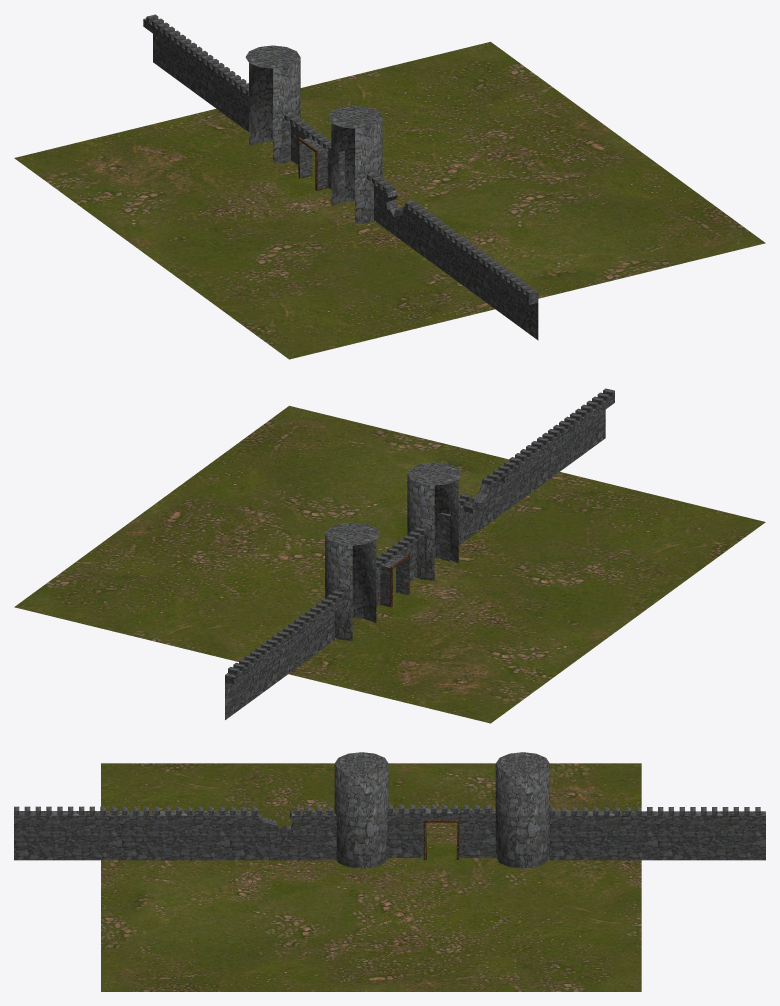
The model's file is walls.glb.
The picture shows the model from 3 angles, top to bottom: view 1: azimuth 30°, elevation 25°; view 2: azimuth 150°, elevation 25°; view 3: azimuth 270°, elevation 25°; orthographic projection.
Visible parts, largest first — view 1: Gate_2x4.003; view 2: Gate_2x4.003; view 3: Gate_2x4.003.
Boxes of the visible parts, left/top/right/bottom form: Gate_2x4.003: left=14, top=14, right=765, bottom=359; Gate_2x4.003: left=14, top=388, right=765, bottom=723; Gate_2x4.003: left=14, top=752, right=765, bottom=991.
Size of the model in its own units: 40 by 7.76 by 55.66.
9 materials, 9 textured.
